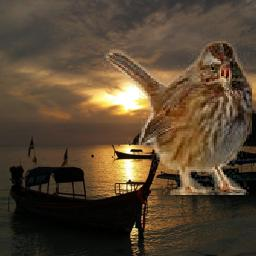Sparrow: (102, 39, 252, 195)
